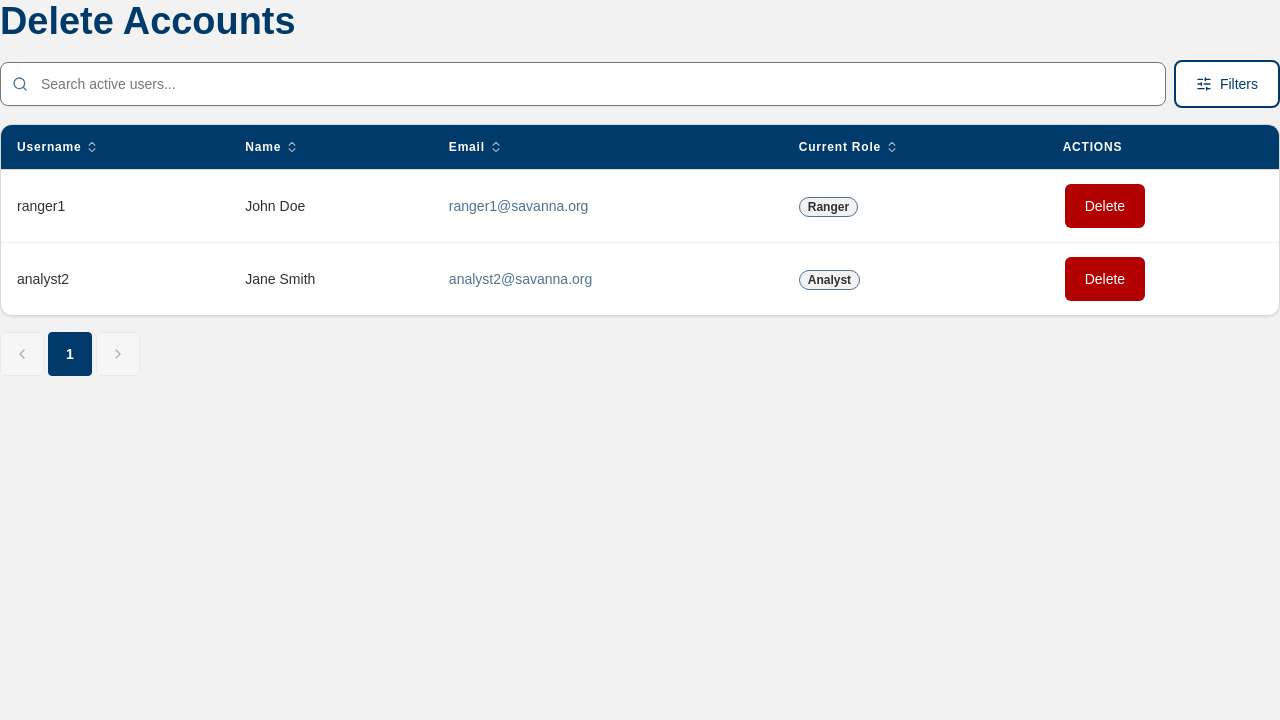
Test: DeleteAccounts - Delete Accounts › clicking delete opens a confirmation dialog naming the user
Expected: the text "ranger1" is shown, [1,169,229,242]
Click the button "Delete" in the row of "John Doe". click: (1105, 206)
box: [1063,182,1147,230]
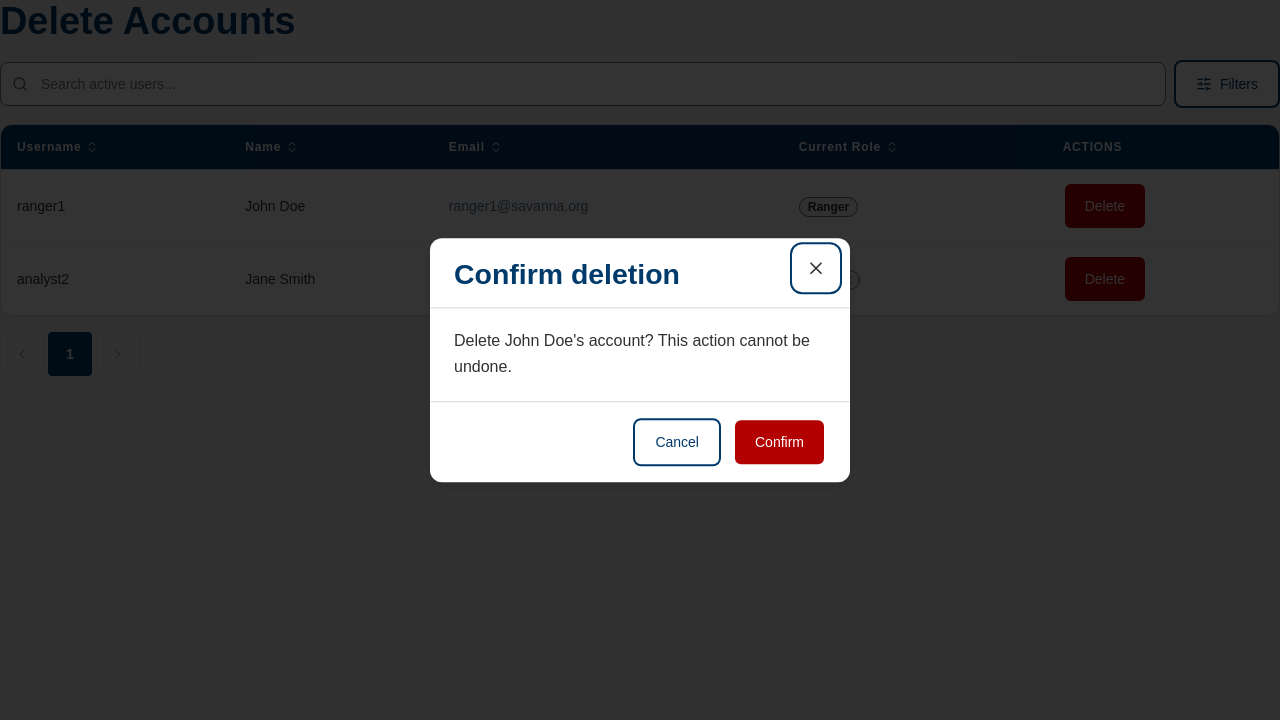
Expected: the text "Delete John Doe's account? This action cannot be undone." is shown, [454,332,810,375]
